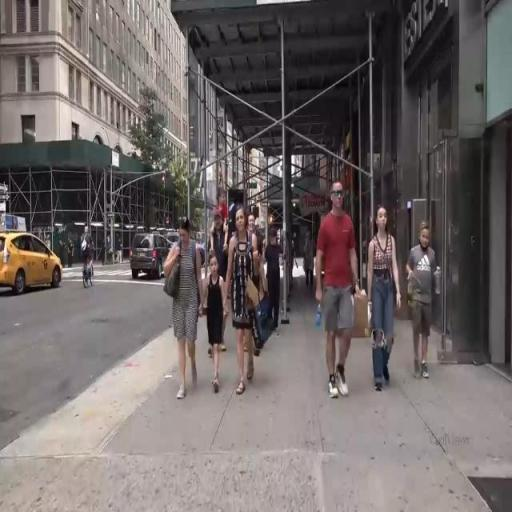person: (309, 178, 352, 403), (159, 204, 206, 404), (365, 205, 404, 391), (232, 212, 268, 413), (410, 225, 443, 397), (207, 253, 229, 392), (268, 228, 291, 332), (207, 213, 228, 284), (307, 232, 319, 295), (81, 226, 96, 263), (217, 188, 233, 221), (59, 239, 68, 275), (118, 237, 125, 274), (68, 237, 76, 267)
